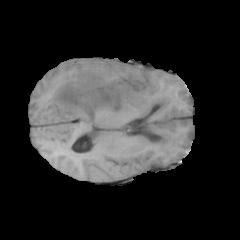glioma: (49, 71, 179, 145)
